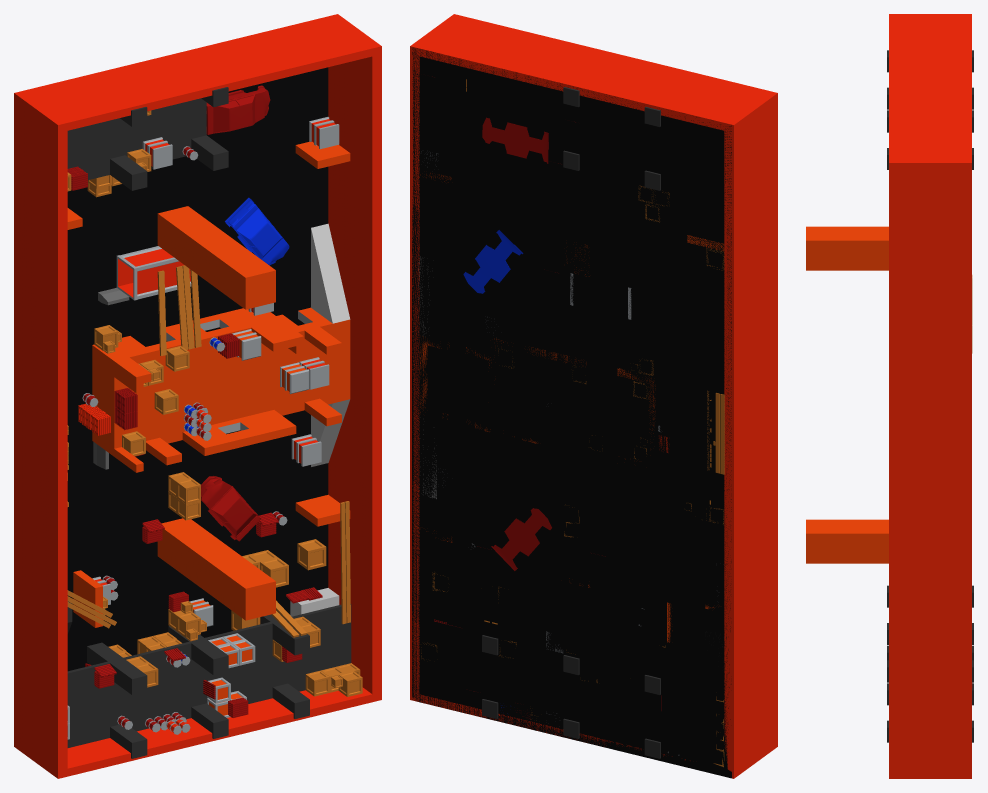
File: lowpoly__fps__tdm__game__map.fbx
3 renders of one model, left to right at view 1: azimuth 30°, elevation 25°; view 2: azimuth 150°, elevation 25°; view 3: azimuth 270°, elevation 25°, orthographic. The views are drawn at different scales.
Visible parts, largest first — view 1: floors, Plane, room, Cube.004, Cube.016, obj.049, obj.048, Cube.002, Cube.005, Cube.035, Cube.006, Cube.007 (+14 smaller); view 2: Plane, floors, Cube.004, Cube.007, Cube.006, Cube.035, Cube.016, room; view 3: floors, obj.048, obj.049, Cube.004, Cube.016.
Boxes of the visible parts, box(x1,y1,x2,y2) form: floors: box(14, 14, 381, 778); Plane: box(67, 67, 328, 671); room: box(92, 307, 350, 472); Cube.004: box(67, 604, 351, 758); Cube.016: box(67, 87, 228, 190); obj.049: box(157, 206, 275, 309); obj.048: box(157, 518, 275, 620); Cube.002: box(311, 223, 350, 323); Cube.005: box(116, 246, 191, 300); Cube.035: box(225, 197, 289, 265); Cube.006: box(201, 476, 260, 541); Cube.007: box(206, 85, 270, 134); Plane: box(412, 48, 731, 778); floors: box(410, 14, 777, 778); Cube.004: box(482, 635, 660, 758); Cube.007: box(482, 117, 548, 163); Cube.006: box(491, 508, 551, 570); Cube.035: box(463, 230, 522, 293); Cube.016: box(563, 87, 660, 190); room: box(419, 336, 655, 459); floors: box(889, 14, 971, 778); obj.048: box(806, 519, 888, 563); obj.049: box(806, 226, 888, 270); Cube.004: box(887, 585, 973, 742); Cube.016: box(887, 50, 973, 169).
Size of the model in its own units: 8.5 by 16.4 by 4.05.
